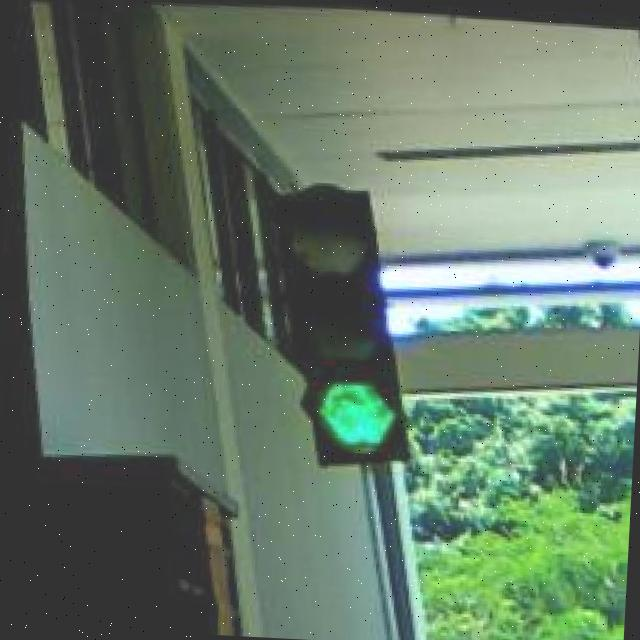green_light: (258, 174, 419, 460)
